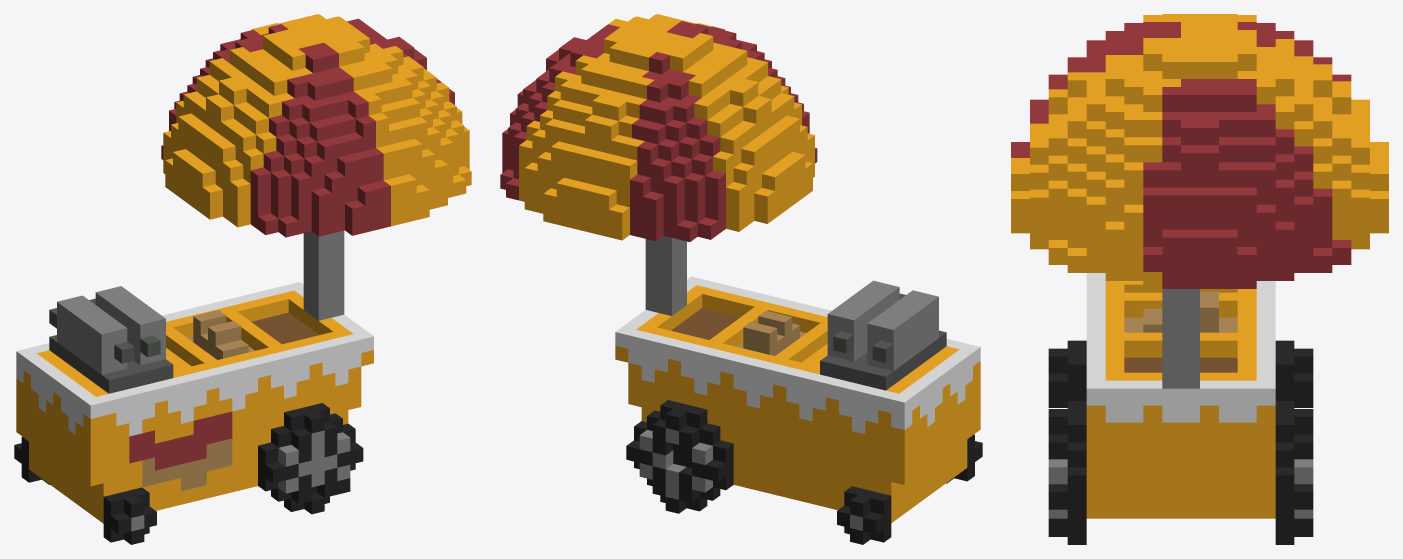
File: id-beach-hotdogcart.obj
The picture shows the model from 3 angles, left to right: view 1: azimuth 30°, elevation 25°; view 2: azimuth 150°, elevation 25°; view 3: azimuth 270°, elevation 25°; orthographic projection. The views are drawn at different scales.
Bounding box in the file's own units: 31 × 31 × 20.
Materials: 1 (1 with a texture image).
